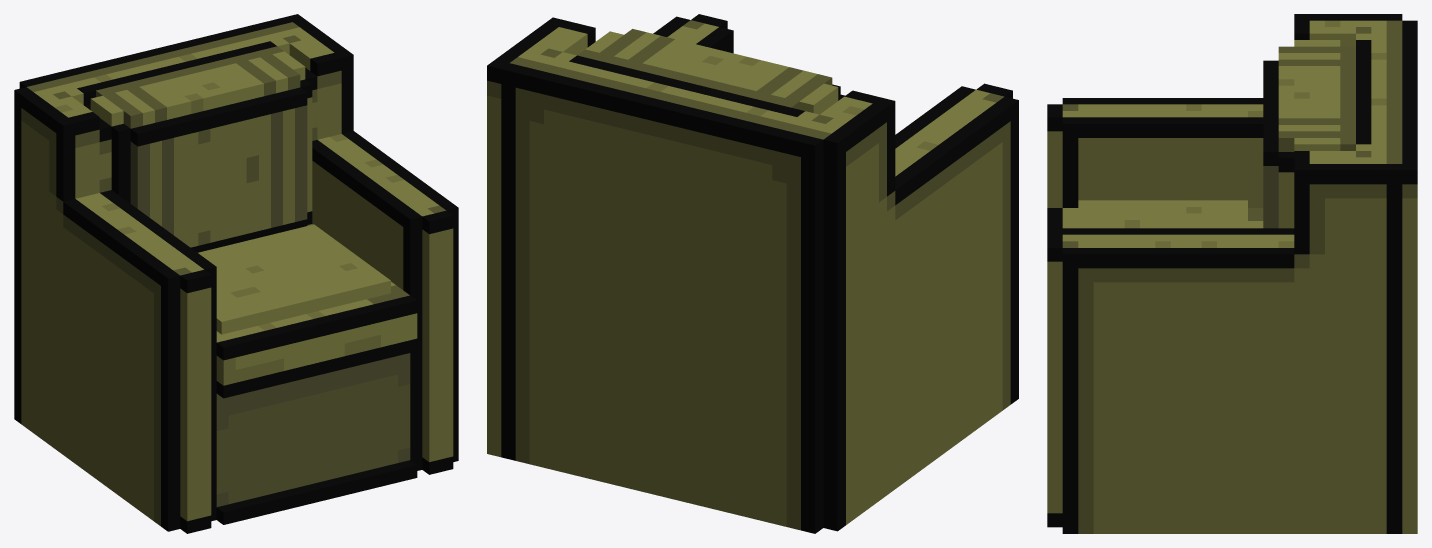
The model's file is GreenArmchair.obj.
The picture shows the model from 3 angles, left to right: view 1: azimuth 30°, elevation 25°; view 2: azimuth 150°, elevation 25°; view 3: azimuth 270°, elevation 25°; orthographic projection. The views are drawn at different scales.
Size of the model in its own units: 2.4 by 2.6 by 2.4.
1 material, 1 textured.
